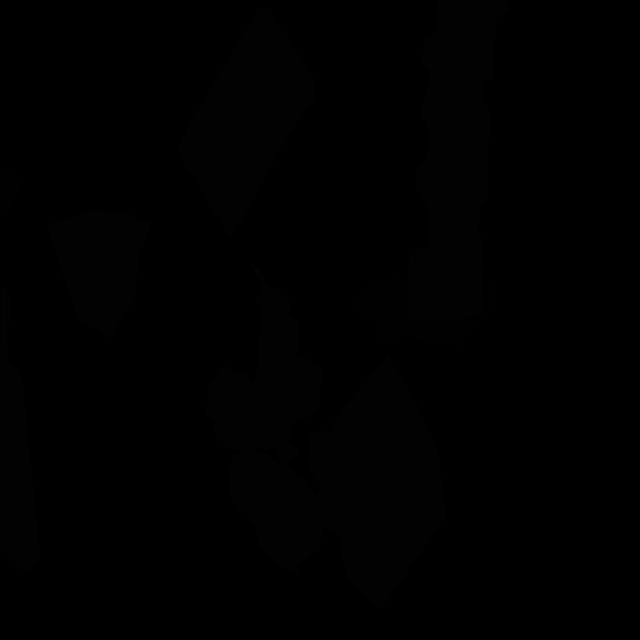cardboard: (307, 354, 447, 612), (405, 0, 510, 323), (177, 8, 316, 241), (204, 261, 323, 464), (226, 447, 350, 576), (47, 208, 152, 340), (0, 280, 41, 576)
rigid_plastic: (356, 266, 499, 348), (0, 159, 25, 229)
